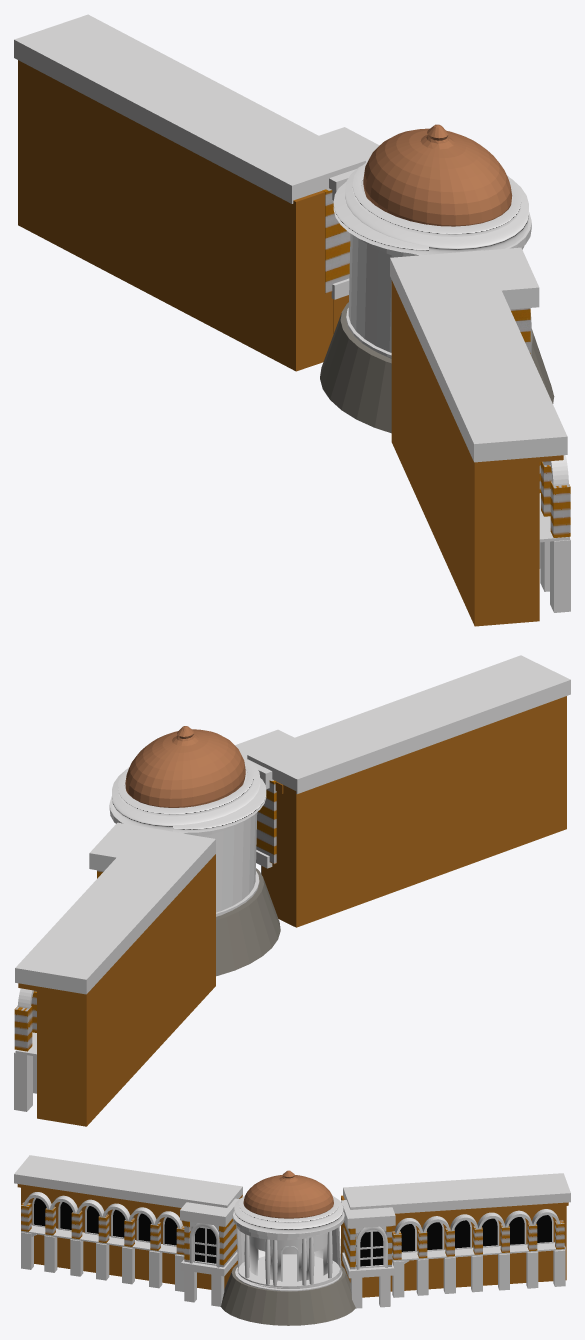
The model's file is postoff.glb.
The picture shows the model from 3 angles, top to bottom: view 1: azimuth 30°, elevation 25°; view 2: azimuth 150°, elevation 25°; view 3: azimuth 270°, elevation 25°; orthographic projection. The views are drawn at different scales.
Parts seen in each view (by area): view 1: Cube.001, Cube.037, Cube.006, Cube.038, Cube.044, Sphere, Cylinder.072, Cylinder, Cylinder.071, Cylinder.005, Cube.004, Cube.003 (+4 smaller); view 2: Cube.037, Cube.001, Cube.006, Cube.038, Cube.044, Sphere, Cylinder.072, Cylinder, Cylinder.071, Cylinder.005, Cube.007, Cube.002 (+4 smaller); view 3: Cube.006, Cylinder.072, Cube.038, Cube.001, Cube.037, Cube.044, Sphere, Cylinder.006, Cube.019, Cylinder.039, Cylinder.007, Cylinder.071 (+54 smaller).
Boxes of the visible parts, x1=… form: Cube.001: x1=18, y1=60, x2=333, y2=371; Cube.037: x1=391, y1=280, x2=539, y2=626; Cube.006: x1=14, y1=14, x2=365, y2=203; Cube.038: x1=390, y1=250, x2=564, y2=441; Cube.044: x1=391, y1=254, x2=567, y2=462; Sphere: x1=363, y1=128, x2=511, y2=226; Cylinder.072: x1=320, y1=302, x2=554, y2=433; Cylinder: x1=348, y1=233, x2=524, y2=352; Cylinder.071: x1=345, y1=165, x2=528, y2=254; Cylinder.005: x1=352, y1=162, x2=521, y2=236; Cube.004: x1=484, y1=247, x2=539, y2=309; Cube.003: x1=322, y1=188, x2=350, y2=293; Cube.037: x1=261, y1=696, x2=566, y2=927; Cube.001: x1=37, y1=854, x2=215, y2=1126; Cube.006: x1=15, y1=827, x2=215, y2=994; Cube.038: x1=247, y1=656, x2=567, y2=794; Cube.044: x1=251, y1=655, x2=570, y2=778; Sphere: x1=125, y1=729, x2=245, y2=807; Cylinder.072: x1=216, y1=868, x2=280, y2=976; Cylinder: x1=202, y1=812, x2=257, y2=916; Cylinder.071: x1=112, y1=759, x2=260, y2=832; Cylinder.005: x1=118, y1=756, x2=253, y2=816; Cube.007: x1=89, y1=822, x2=183, y2=871; Cube.002: x1=256, y1=779, x2=276, y2=864; Cube.006: x1=343, y1=1173, x2=570, y2=1213; Cylinder.072: x1=220, y1=1264, x2=355, y2=1325; Cube.038: x1=16, y1=1155, x2=242, y2=1207; Cube.001: x1=341, y1=1195, x2=566, y2=1291; Cube.037: x1=21, y1=1187, x2=242, y2=1289; Cube.044: x1=14, y1=1155, x2=238, y2=1205; Sphere: x1=243, y1=1175, x2=333, y2=1218; Cylinder.006: x1=249, y1=1232, x2=327, y2=1280; Cube.019: x1=400, y1=1218, x2=497, y2=1251; Cylinder.039: x1=244, y1=1231, x2=332, y2=1285; Cylinder.007: x1=237, y1=1254, x2=339, y2=1287; Cylinder.071: x1=234, y1=1198, x2=343, y2=1233.
Bounding box in the file's own units: 4.63 × 3.71 × 14.08.
6 materials, 1 textured.
